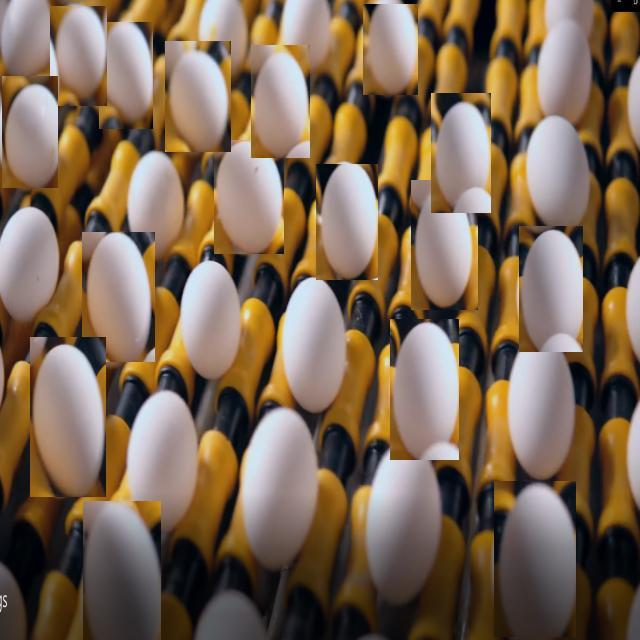Egg: (368, 443, 445, 614), (241, 402, 320, 566), (494, 481, 576, 637), (30, 337, 106, 497), (83, 501, 161, 640), (503, 337, 576, 484), (128, 386, 198, 528), (524, 116, 604, 240), (286, 280, 354, 424), (390, 319, 459, 460), (82, 232, 155, 362), (178, 252, 246, 386), (411, 180, 478, 310), (519, 225, 583, 352), (214, 140, 284, 254), (1, 205, 65, 322), (165, 41, 231, 152), (431, 94, 491, 214), (316, 164, 378, 280), (126, 146, 189, 260), (251, 45, 310, 158), (2, 76, 58, 188), (537, 21, 596, 126), (99, 22, 153, 129), (50, 6, 107, 106), (363, 4, 418, 95)
